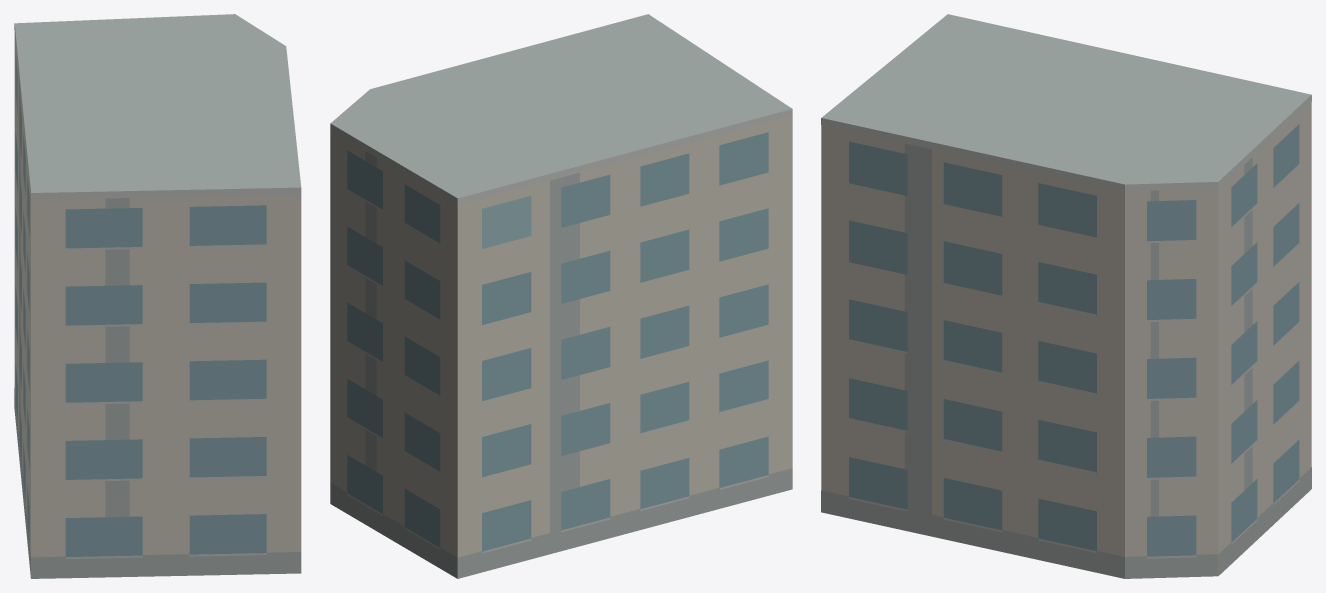
File: survey-upis-32478901.glb
The picture shows the model from 3 angles, left to right: view 1: azimuth 30°, elevation 25°; view 2: azimuth 150°, elevation 25°; view 3: azimuth 270°, elevation 25°; orthographic projection. The views are drawn at different scales.
Parts seen in each view (by area): view 1: survey-upis-32478901.tmp; view 2: survey-upis-32478901.tmp; view 3: survey-upis-32478901.tmp.
Boxes of the visible parts, x1,y1,x2,y2 form: survey-upis-32478901.tmp: (14, 14, 301, 578); survey-upis-32478901.tmp: (330, 14, 792, 578); survey-upis-32478901.tmp: (821, 14, 1311, 578).
Bounding box in the file's own units: 12.53 × 13.5 × 15.23.
